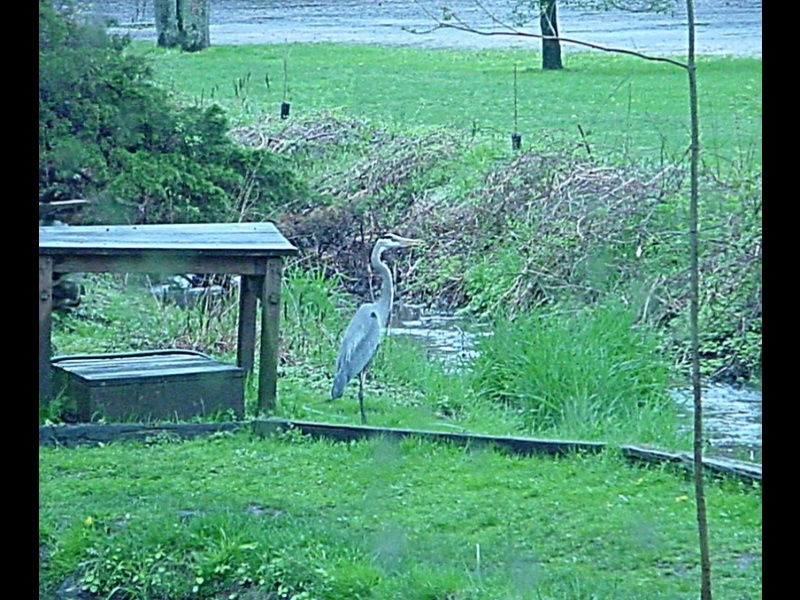heron: (331, 231, 436, 429)
